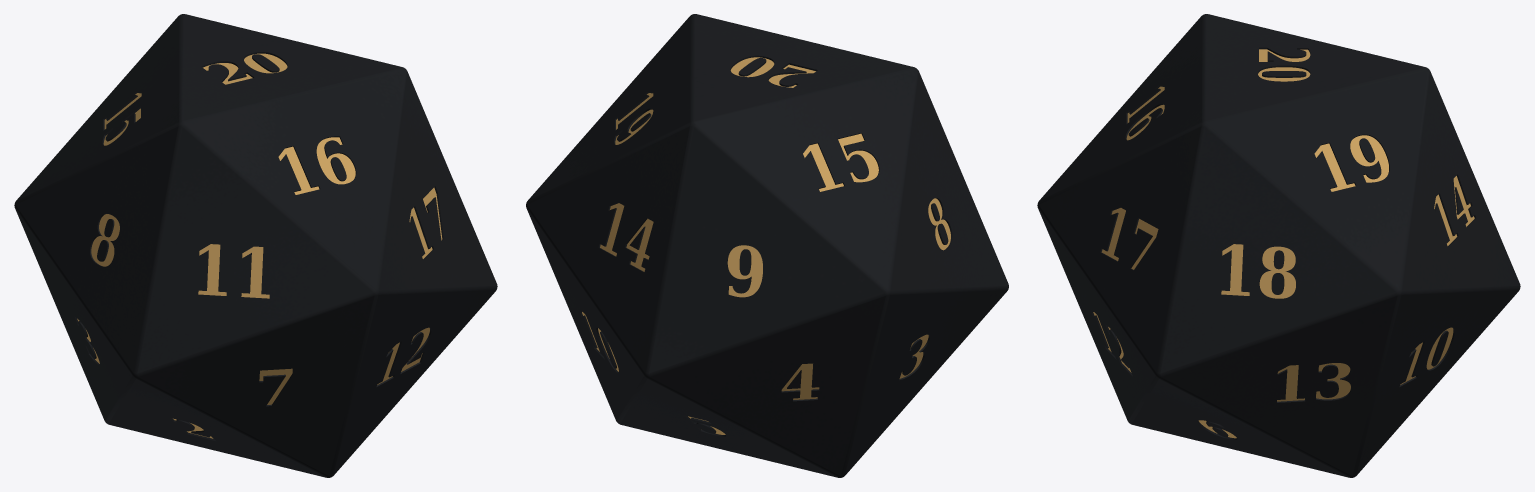
File: d20_obsidian_gold_master_500k.glb
The picture shows the model from 3 angles, left to right: view 1: azimuth 30°, elevation 25°; view 2: azimuth 150°, elevation 25°; view 3: azimuth 270°, elevation 25°; orthographic projection.
Parts seen in each view (by area): view 1: D20_Engraved_Obsidian, Gold_11, Gold_16, Gold_08, Gold_20; view 2: D20_Engraved_Obsidian, Gold_15, Gold_09, Gold_14, Gold_20, Gold_04; view 3: D20_Engraved_Obsidian, Gold_18, Gold_19, Gold_13, Gold_17, Gold_20, Gold_14, Gold_10.
Part boxes in pixels (x1,y1,x2,y2): D20_Engraved_Obsidian: [14, 14, 497, 477]; Gold_11: [198, 244, 269, 298]; Gold_16: [278, 137, 355, 194]; Gold_08: [91, 214, 119, 266]; Gold_20: [203, 53, 287, 84]; D20_Engraved_Obsidian: [526, 14, 1008, 477]; Gold_15: [803, 133, 878, 191]; Gold_09: [727, 245, 762, 297]; Gold_14: [600, 203, 653, 271]; Gold_20: [730, 57, 815, 87]; Gold_04: [781, 363, 819, 399]; D20_Engraved_Obsidian: [1037, 14, 1520, 477]; Gold_18: [1221, 244, 1295, 298]; Gold_19: [1314, 135, 1388, 191]; Gold_13: [1277, 363, 1350, 401]; Gold_17: [1101, 208, 1158, 269]; Gold_20: [1258, 49, 1310, 81]; Gold_14: [1434, 176, 1474, 245]; Gold_10: [1400, 327, 1453, 384].
Bounding box in the file's own units: 1.7 × 1.59 × 1.95.
Materials: 3 (2 with a texture image).
